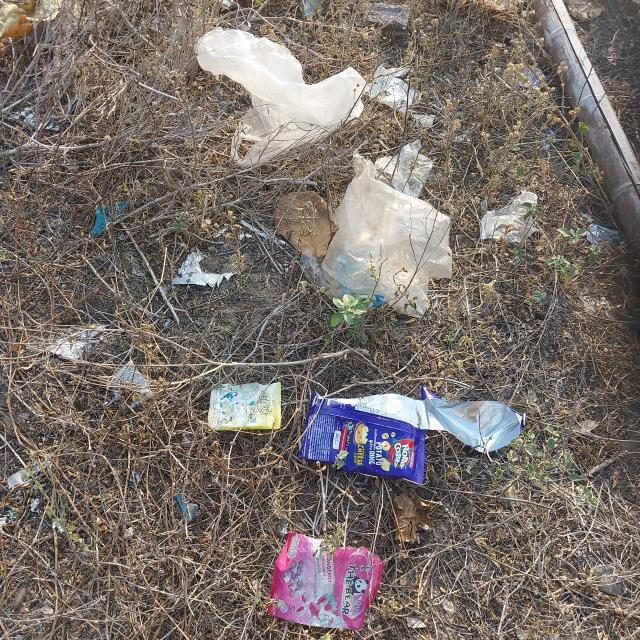Single-layer Plastic: (194, 23, 370, 191), (315, 148, 463, 328), (482, 176, 560, 266), (386, 132, 436, 199)
